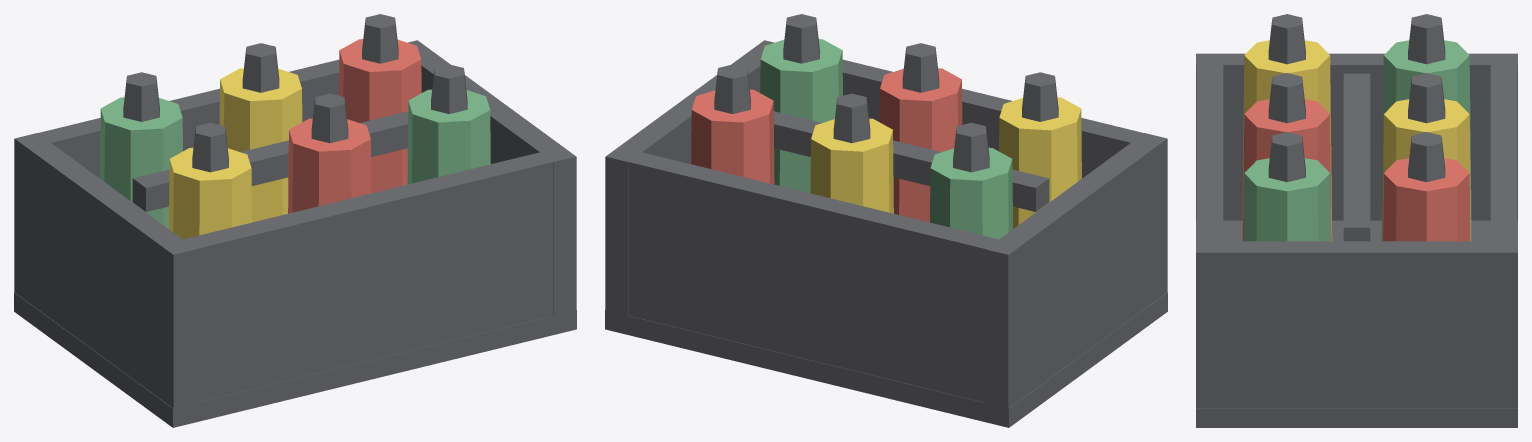
Rendered from street-food-market-and-food-trucks-drinks-bottle-crate-d8a00ec4__34317.glb.
3 renders of one model, left to right at view 1: azimuth 30°, elevation 25°; view 2: azimuth 150°, elevation 25°; view 3: azimuth 270°, elevation 25°, orthographic.
Parts seen in each view (by area): view 1: drinks-bottle-crate-charcoal, drinks-bottle-crate-scarlet, drinks-bottle-crate-canary, drinks-bottle-crate-leaf; view 2: drinks-bottle-crate-charcoal, drinks-bottle-crate-scarlet, drinks-bottle-crate-leaf, drinks-bottle-crate-canary; view 3: drinks-bottle-crate-charcoal, drinks-bottle-crate-leaf, drinks-bottle-crate-scarlet, drinks-bottle-crate-canary.
Part boxes in pixels (box(x1,y1,x2,y2)): drinks-bottle-crate-charcoal: box(14, 14, 576, 427); drinks-bottle-crate-scarlet: box(288, 39, 421, 213); drinks-bottle-crate-canary: box(169, 68, 302, 239); drinks-bottle-crate-leaf: box(100, 89, 490, 228); drinks-bottle-crate-charcoal: box(605, 14, 1167, 427); drinks-bottle-crate-scarlet: box(691, 68, 962, 222); drinks-bottle-crate-leaf: box(760, 39, 1012, 239); drinks-bottle-crate-canary: box(810, 97, 1081, 228); drinks-bottle-crate-charcoal: box(1196, 14, 1517, 427); drinks-bottle-crate-leaf: box(1243, 40, 1471, 241); drinks-bottle-crate-scarlet: box(1243, 99, 1470, 241); drinks-bottle-crate-canary: box(1242, 40, 1470, 241).
Bounding box in the file's own units: 0.44 × 0.255 × 0.3.
